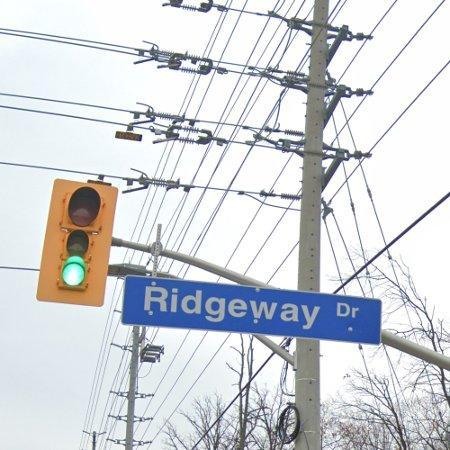traffic lights: (36, 176, 118, 309)
